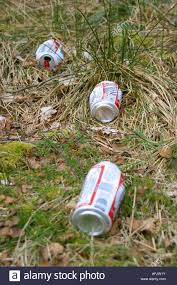can: (71, 162, 127, 237), (88, 78, 123, 126), (32, 35, 69, 75)
